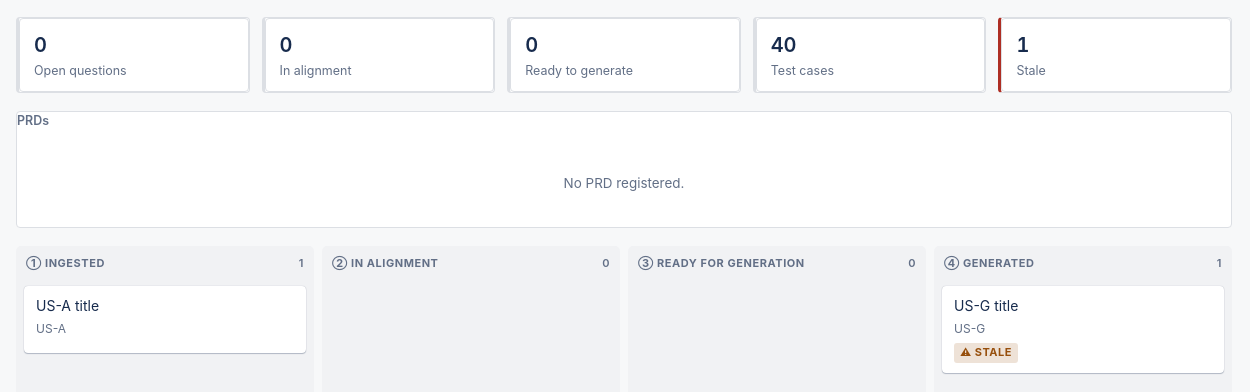
Test: Dashboard › filters the board when a metric is clicked, and clears on a second click
The width and height of the screenshot is (1250, 392).
Expected: the text "US-A" is shown, [36,321,66,336]
Click the button "1 Stale".
click(1115, 55)  # box [998,17,1232,93]
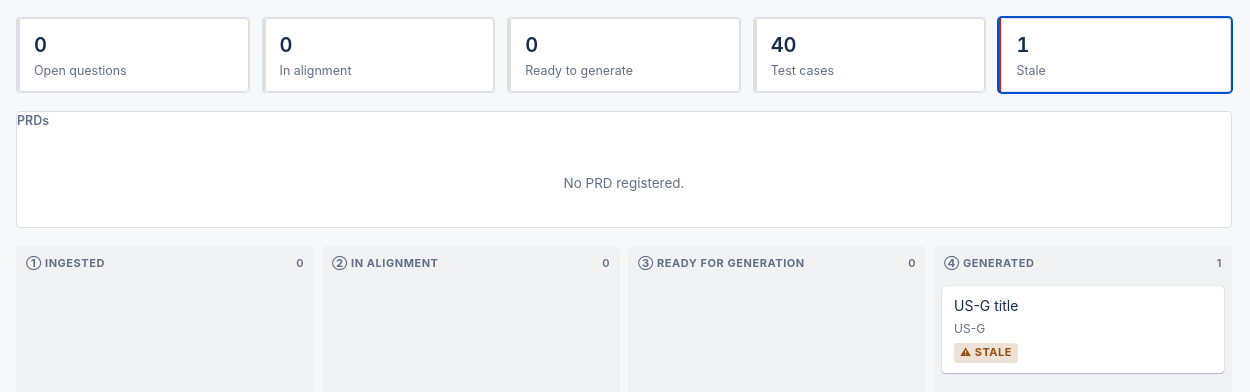
Expected: the text "US-G" is shown, [954,321,985,336]
Now the link "US-A" is gone
// Clicking Stale again clears the filter.
Click the button "1 Stale".
click(1115, 55)  # box [998,17,1232,93]
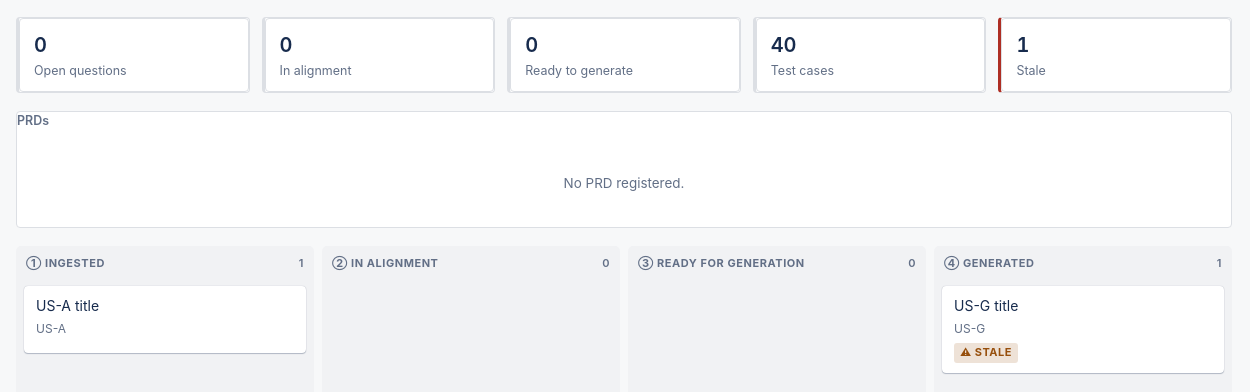
Now the text "US-A" is shown, box [36,321,66,336]
